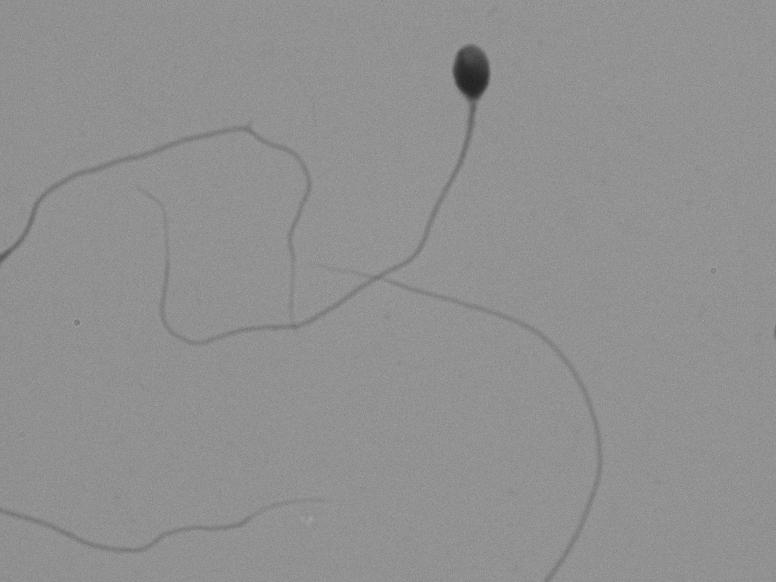Normal: (126, 31, 510, 394)
